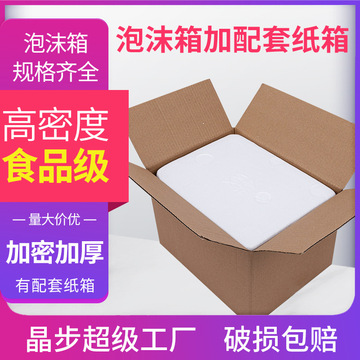泡沫箱: (157, 135, 334, 249)
